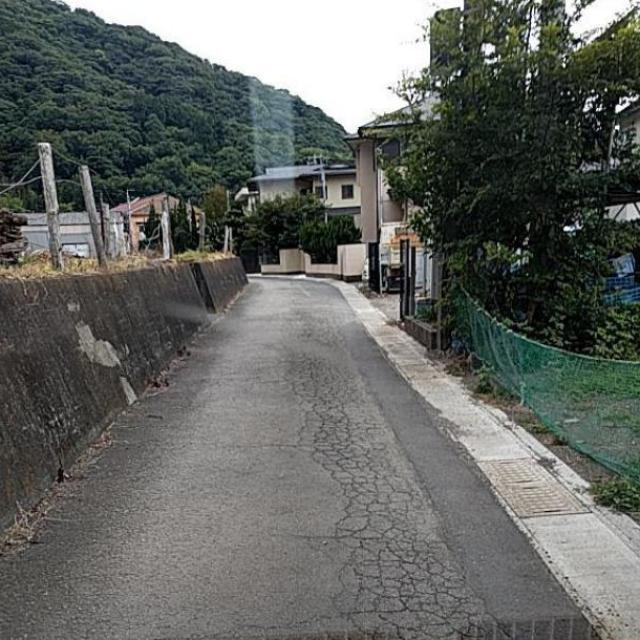Retak Buaya: (300, 364, 508, 640)
